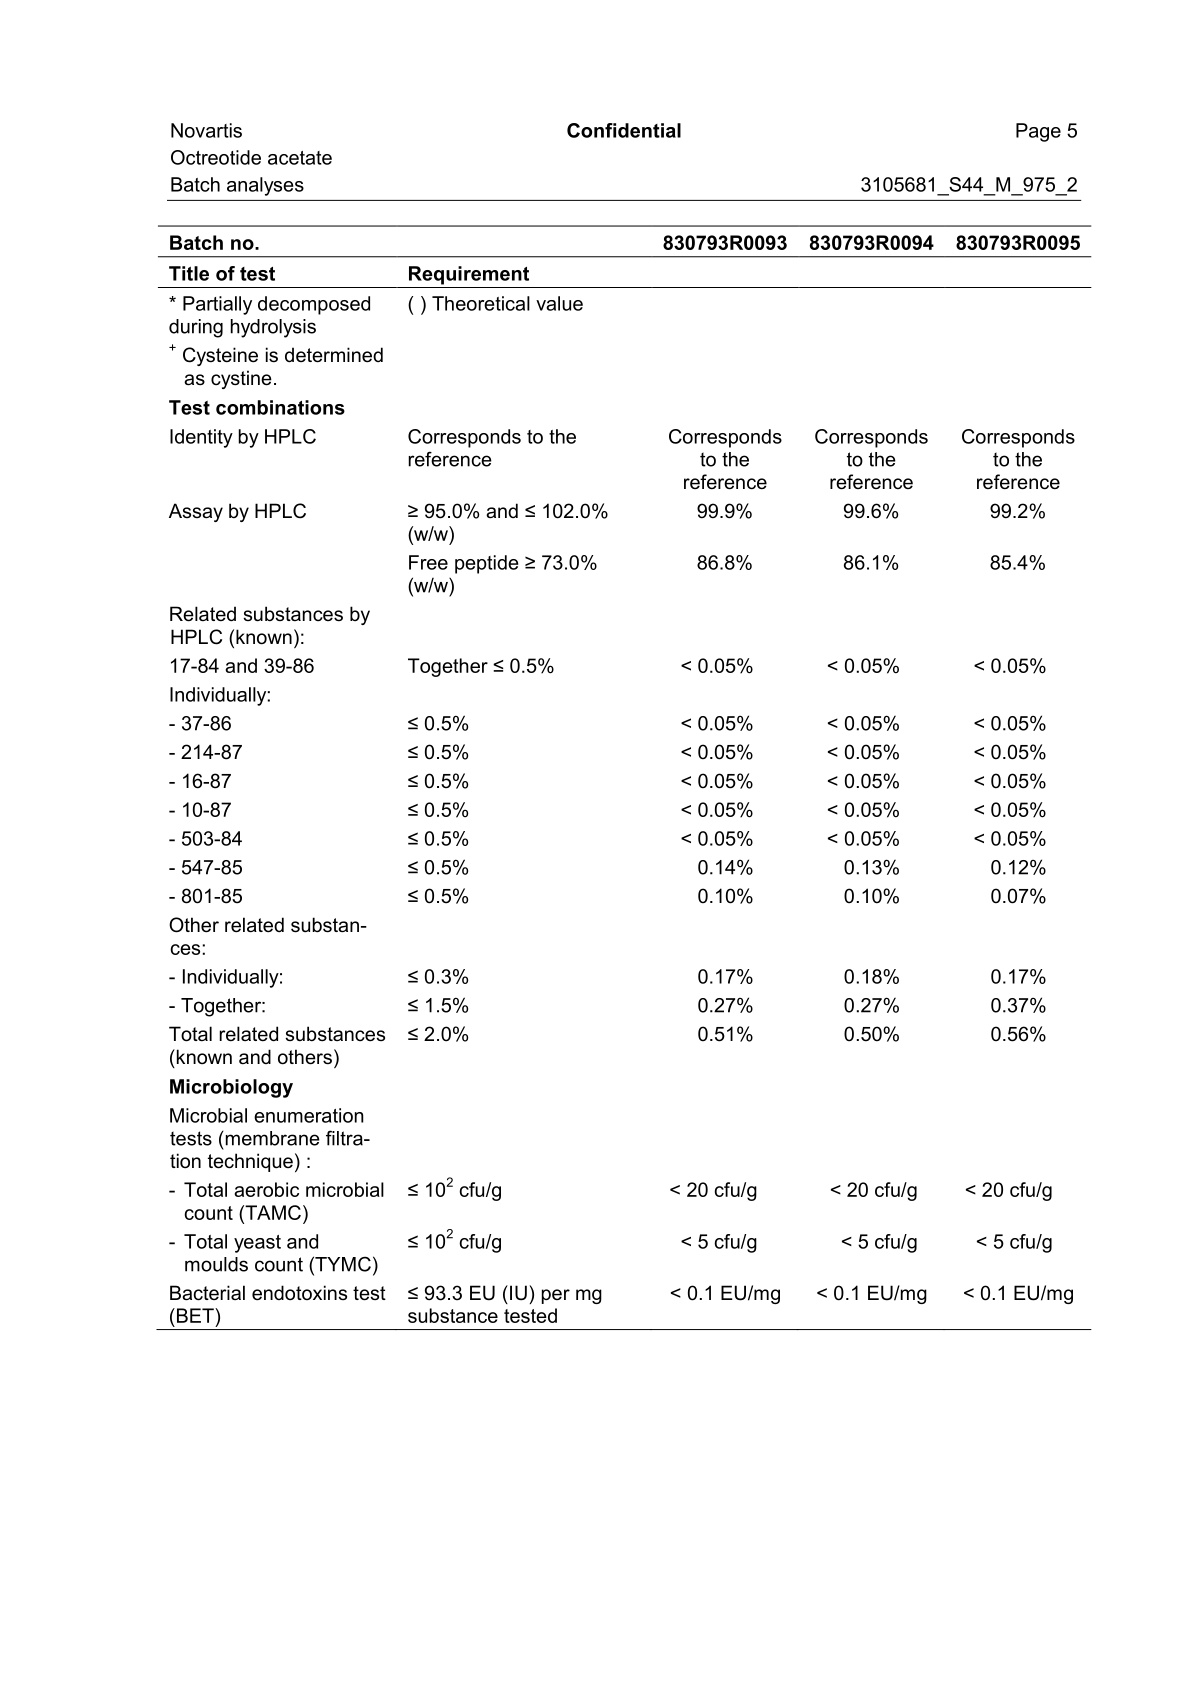partial_lined: (155, 223, 1090, 1330)
